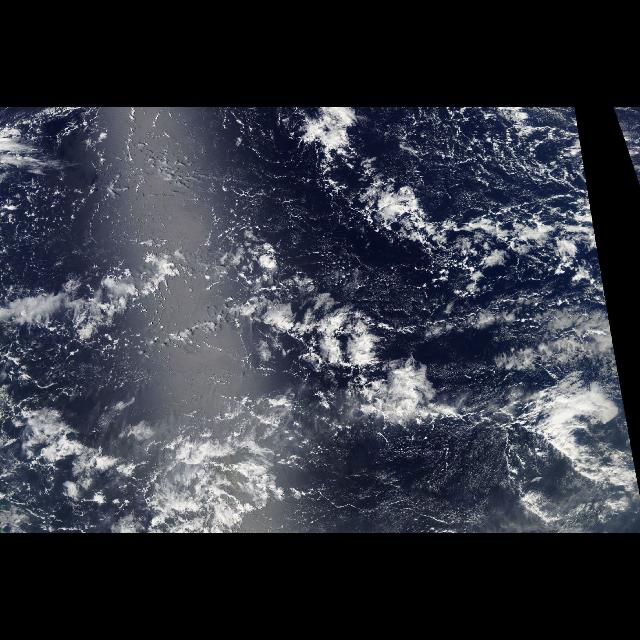Fish: (132, 155, 500, 461)
Gravel: (390, 110, 568, 194)
Sugar: (270, 432, 530, 528)
